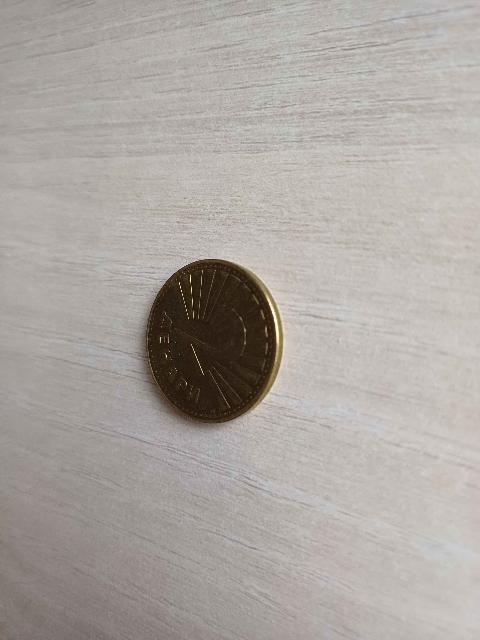coin: (142, 253, 288, 425)
